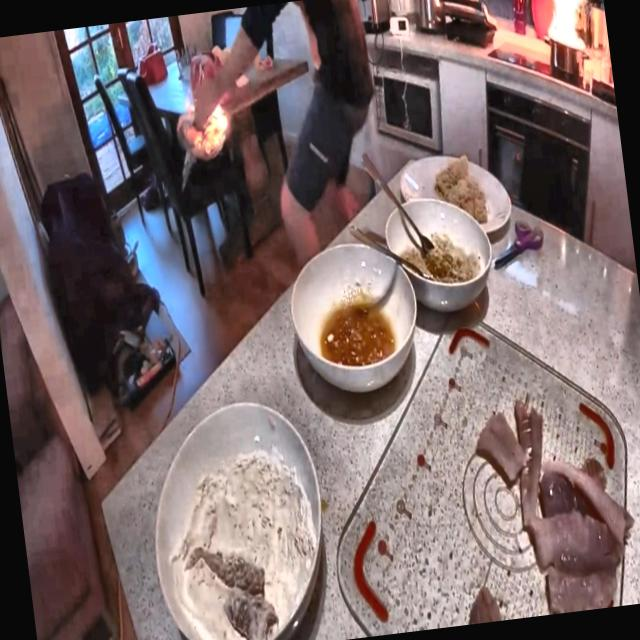fire: (529, 0, 603, 91)
